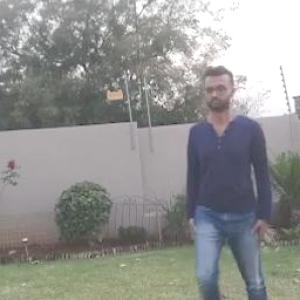follow: (181, 69, 267, 299)
